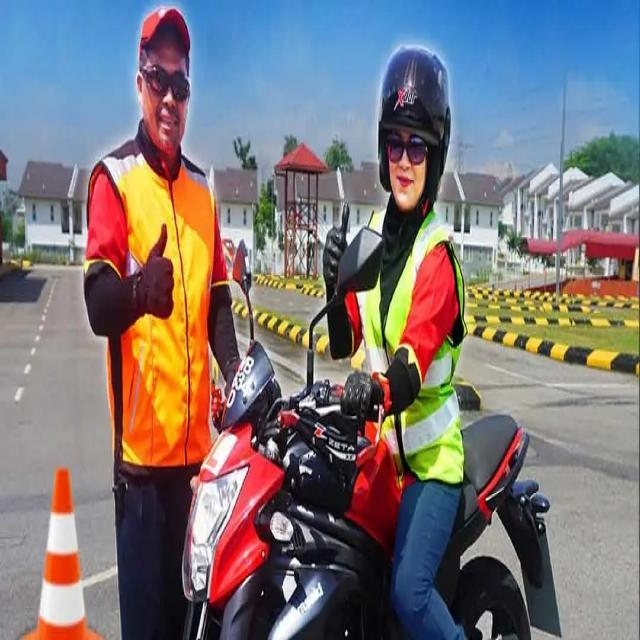Helmet: (370, 41, 455, 216)
